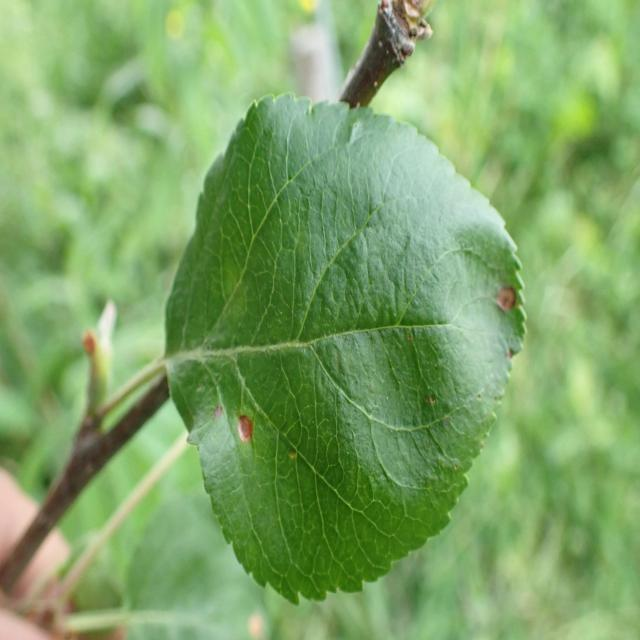Black Rot: (483, 258, 526, 336), (233, 401, 266, 470)
